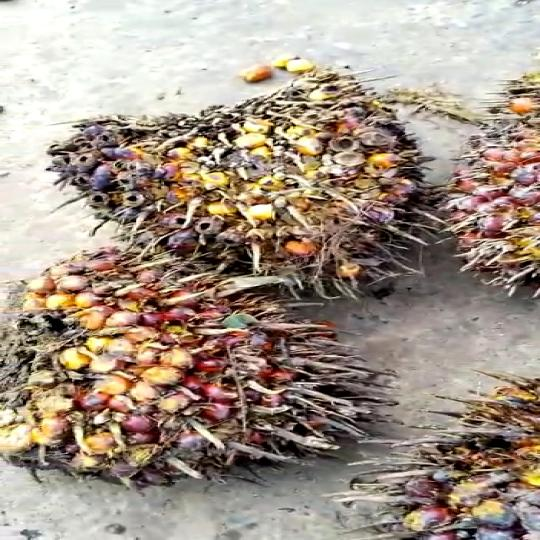masak: (26, 70, 454, 300), (0, 248, 393, 484)
